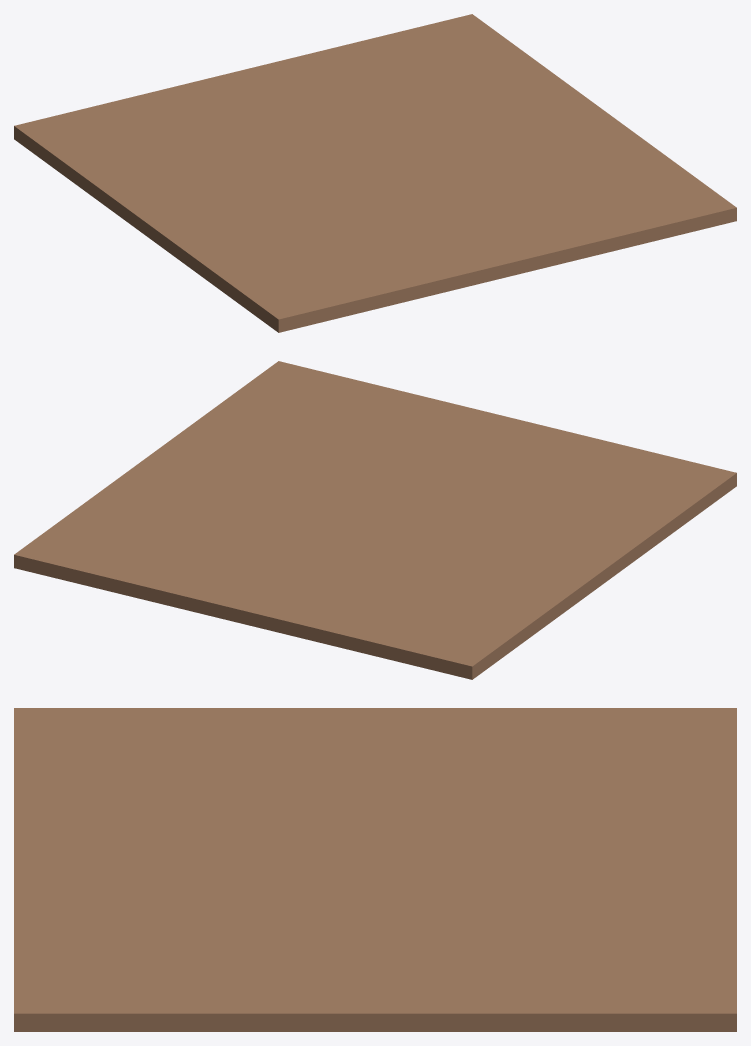
File: roof_Textured.fbx
3 renders of one model, top to bottom at view 1: azimuth 30°, elevation 25°; view 2: azimuth 150°, elevation 25°; view 3: azimuth 270°, elevation 25°, orthographic. The views are drawn at different scales.
Parts seen in each view (by area): view 1: Roof_1; view 2: Roof_1; view 3: Roof_1.
Boxes of the visible parts, x1,y1,x2,y2 form: Roof_1: (14,14,736,332); Roof_1: (14,361,736,679); Roof_1: (14,708,736,1031).
Size of the model in its own units: 465 by 13 by 465.
